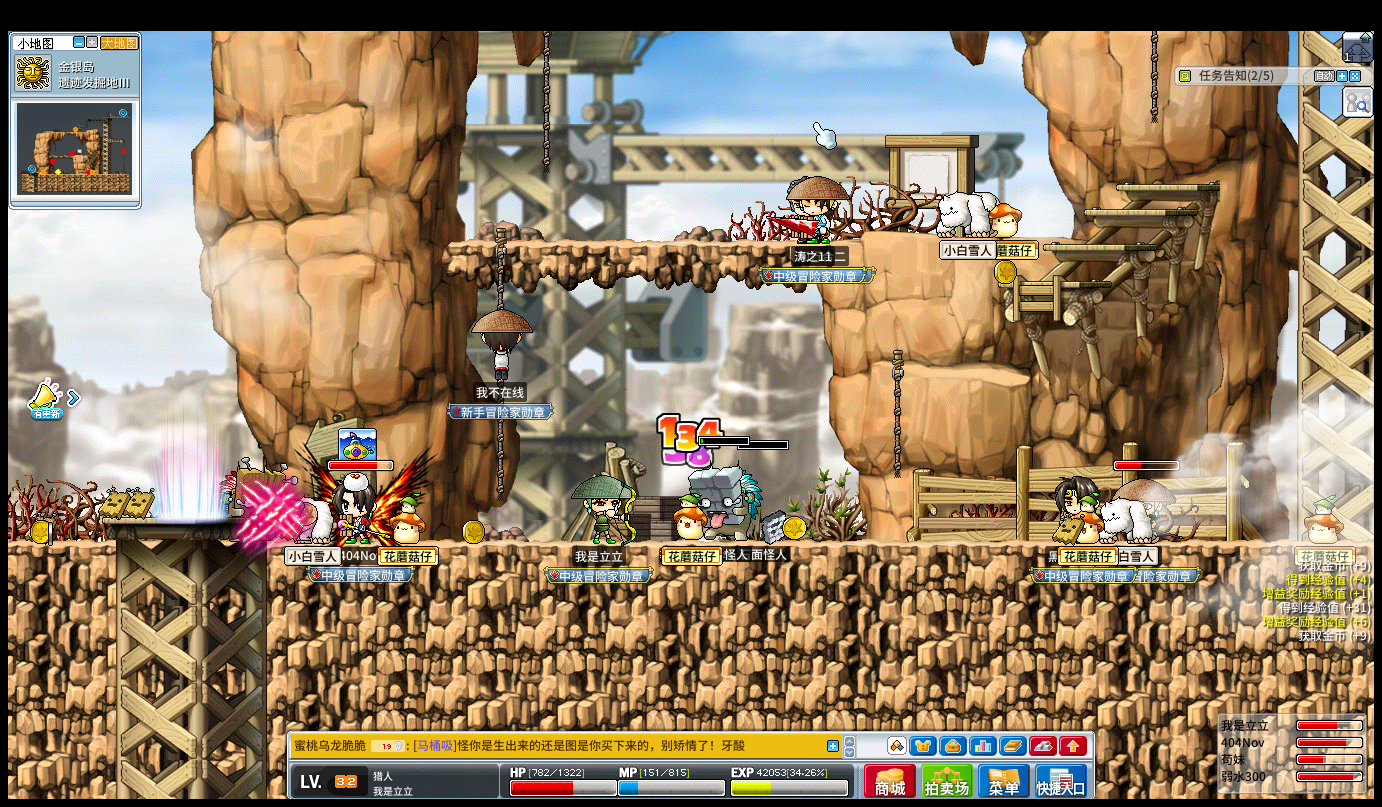floor: (443, 238, 820, 248), (922, 364, 1030, 384), (101, 517, 255, 525), (993, 280, 1105, 291), (927, 232, 1078, 240), (1081, 205, 1196, 215), (993, 279, 1111, 288), (8, 540, 112, 550), (1041, 243, 1156, 251), (1079, 207, 1191, 215), (1115, 184, 1218, 191)
monster: (690, 467, 762, 540)
rope: (889, 350, 903, 480), (541, 30, 550, 174), (543, 30, 551, 176), (493, 227, 506, 310), (492, 419, 504, 503), (495, 419, 505, 503), (1148, 29, 1156, 120)
